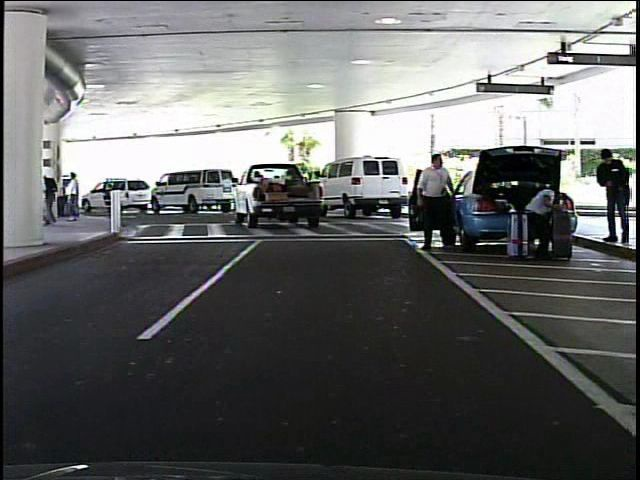person: (416, 150, 460, 251), (592, 143, 628, 248), (521, 174, 564, 257)
